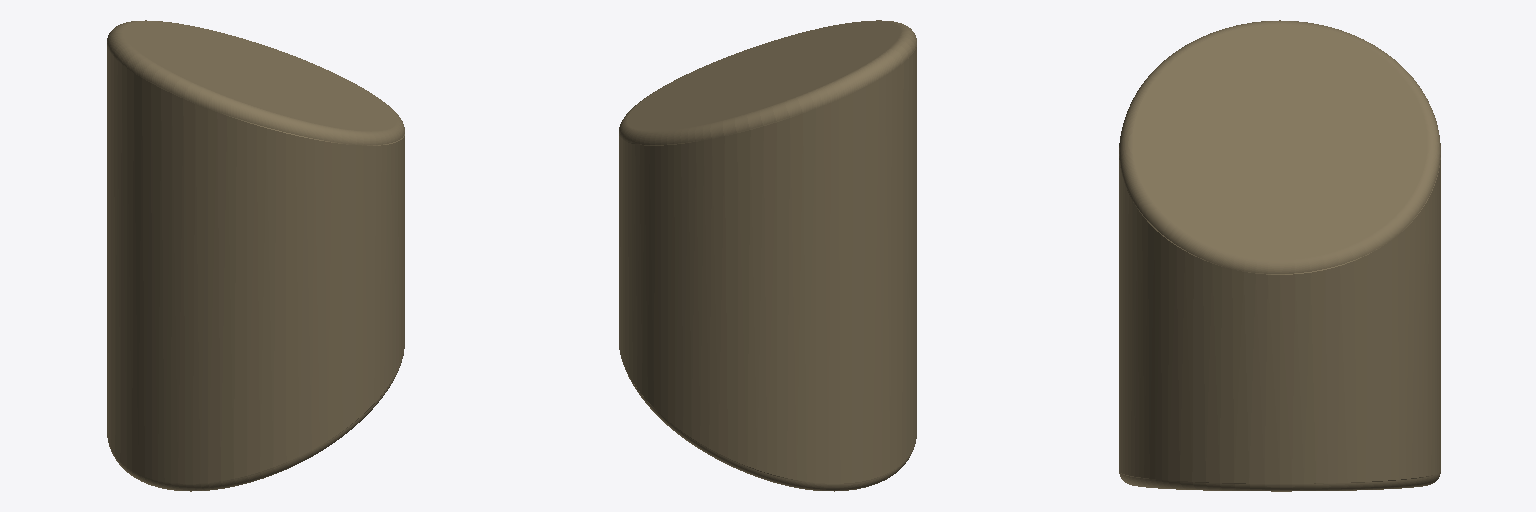
The robot description file, URDF, robot "cylinder_parallogram_2":
<?xml version="1.0"?>
<robot name="cylinder_parallogram_2">
  <link name="base_link">
    <visual>
      <origin xyz="0 0 0" rpy="0 0 0" />
      <geometry>
        <mesh filename="cylinder_parallogram_2.obj"/>      
      </geometry>
      <material name="tan">
        <color rgba="0.55 0.5 0.4 1"/>
      </material>
    </visual>
    <collision>
      <origin xyz="0 0 0" rpy="0 0 0" />
      <geometry>
        <mesh filename="cylinder_parallogram_2.obj"/>
      </geometry>
    </collision>
  </link>
</robot>

--- Render facts (derived) ---
3 views of the same robot in one strip: view 1: azimuth 30°, elevation 25°; view 2: azimuth 150°, elevation 25°; view 3: azimuth 270°, elevation 25° (orthographic).
Robot: cylinder_parallogram_2 — 1 links, 0 joints (none); root link base_link; default pose: every joint at zero.
Links seen in each view (by area): view 1: base_link; view 2: base_link; view 3: base_link.
Link boxes in pixels (bbox=[...]): base_link: bbox=[107, 20, 404, 491]; base_link: bbox=[619, 20, 916, 491]; base_link: bbox=[1119, 20, 1440, 491].
Size in the robot's own frame: 19.05 by 19.05 by 29.69 metres.
Meshes: 1 distinct files referenced, 1 mesh visuals loaded (1 OBJ).
